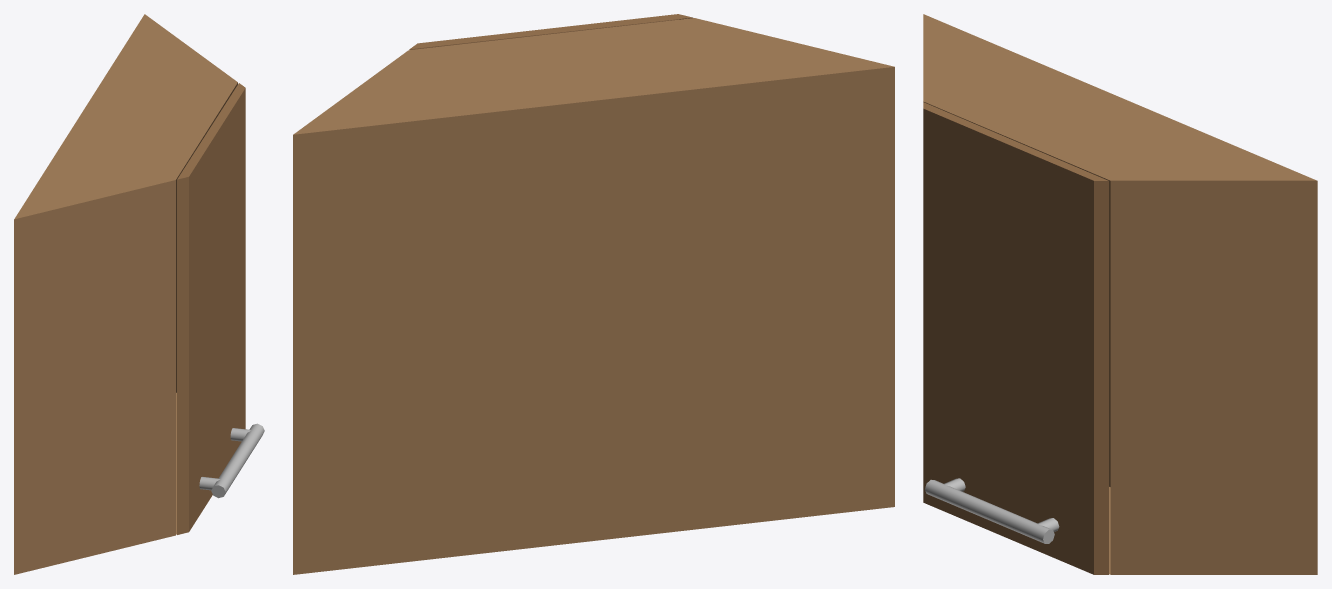
File: kitchen_shelf_corner.FBX
The picture shows the model from 3 angles, left to right: view 1: azimuth 30°, elevation 25°; view 2: azimuth 150°, elevation 25°; view 3: azimuth 270°, elevation 25°; orthographic projection. The views are drawn at different scales.
Visible parts, largest first — view 1: kitchen_shelf_corner; view 2: kitchen_shelf_corner; view 3: kitchen_shelf_corner.
Boxes of the visible parts, x1,y1,x2,y2 form: kitchen_shelf_corner: [14, 14, 264, 574]; kitchen_shelf_corner: [293, 14, 894, 574]; kitchen_shelf_corner: [923, 14, 1317, 574].
Size of the model in its own units: 0.5723 by 0.6301 by 0.5713.
